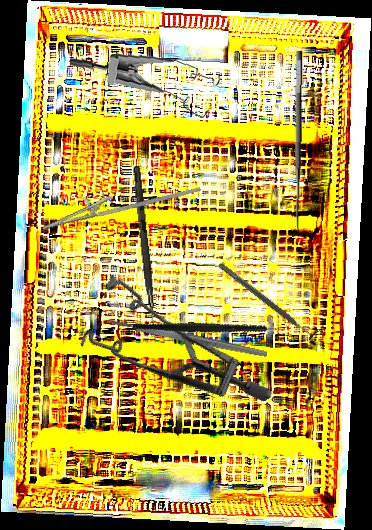Chopper: (132, 267, 295, 382)
Fixation Ring: (213, 256, 325, 347)
Hook Surgical: (130, 165, 162, 344), (289, 51, 318, 233)
Needle Holder: (37, 157, 202, 249)
Scalpel Handle: (109, 316, 268, 360)
Speculum: (58, 235, 275, 467), (69, 44, 224, 130)
